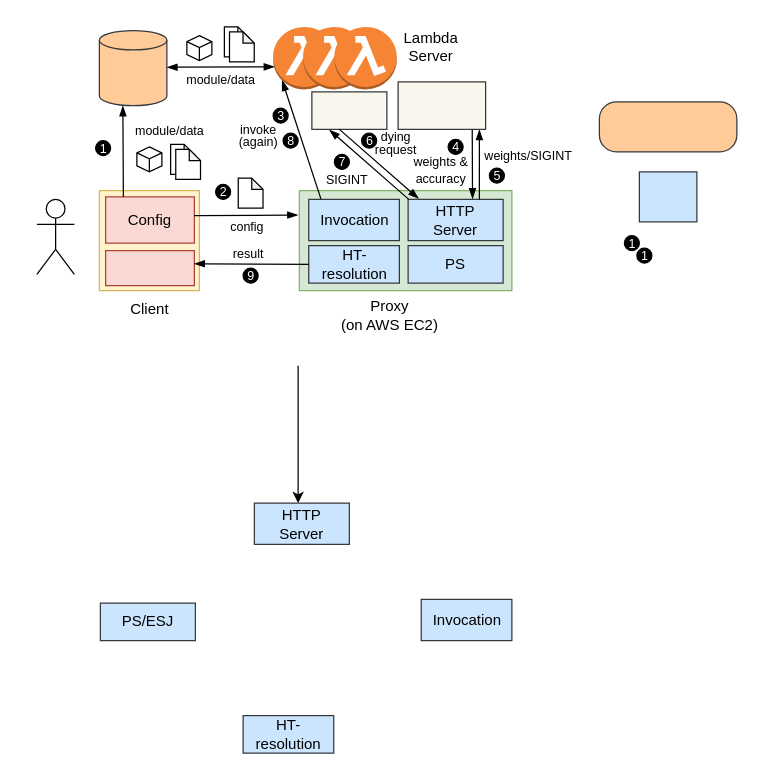
Image size: 759x775. Some labels were removed from this diagram. The shapes that lost their labels are listed below. From the top down, each one's centre as x and y in pixels, then its label:
[132,67]: AWS S3
[349,110]: Time Watcher
[441,105]: Training (Parallelism)
[667,126]: AWS Elastic Container Registry
[667,196]: AWS SDK
[55,236]: Developer
[149,267]: Response
